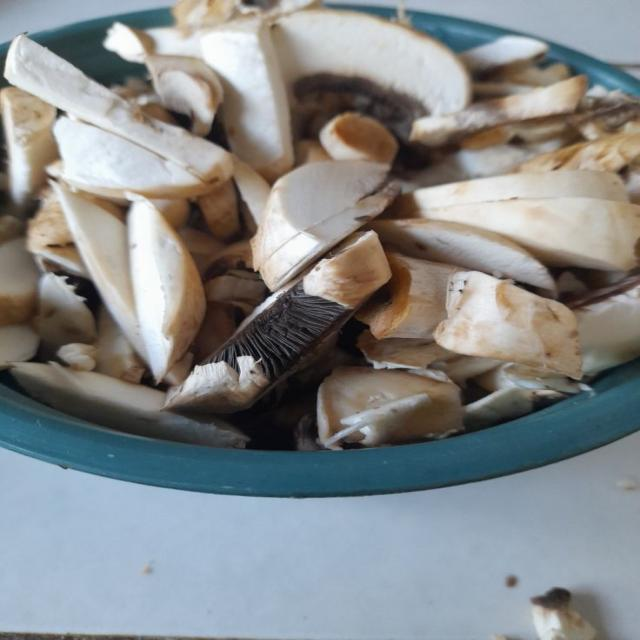champignon mushrooms: (167, 236, 386, 412), (5, 36, 232, 182), (274, 10, 470, 139), (11, 363, 248, 447), (252, 161, 397, 290), (417, 198, 639, 270), (434, 272, 581, 379), (54, 185, 145, 356), (201, 18, 293, 181), (128, 207, 205, 382), (54, 117, 216, 198), (371, 220, 555, 291), (411, 76, 587, 146), (318, 367, 462, 448), (393, 171, 628, 217), (357, 254, 458, 339), (0, 87, 57, 210), (569, 276, 639, 374), (303, 231, 391, 307), (145, 55, 223, 135), (27, 190, 88, 277), (36, 274, 97, 355), (172, 0, 321, 31), (518, 134, 639, 172), (464, 387, 566, 430), (103, 23, 207, 63), (320, 113, 398, 164), (95, 307, 146, 382), (357, 331, 454, 369), (474, 363, 588, 394), (0, 238, 39, 326), (460, 36, 548, 74), (532, 588, 596, 639), (192, 301, 238, 362), (234, 156, 270, 232), (197, 181, 239, 240), (205, 270, 266, 310), (103, 22, 155, 63), (432, 355, 500, 386), (171, 0, 238, 31), (179, 227, 222, 273), (205, 241, 253, 279), (130, 199, 190, 229), (493, 63, 571, 86), (0, 325, 39, 370), (474, 80, 534, 99), (56, 343, 96, 371), (163, 352, 193, 386), (294, 139, 331, 166), (0, 214, 24, 244)
